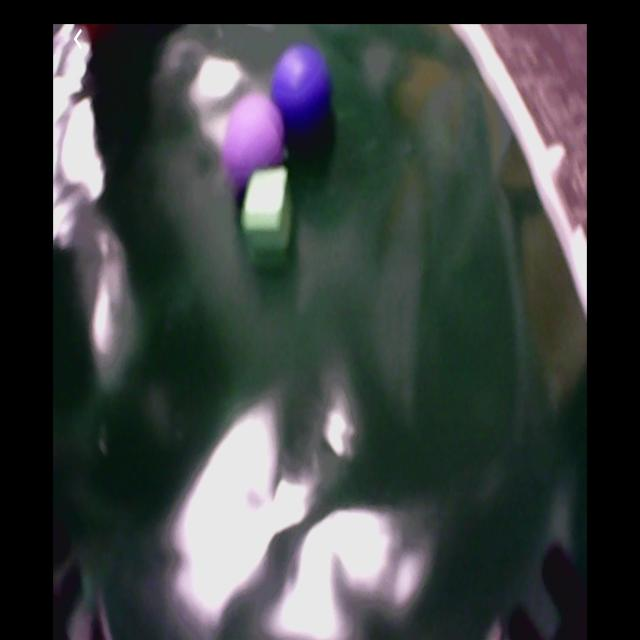ball: (224, 95, 285, 186), (273, 44, 330, 133)
